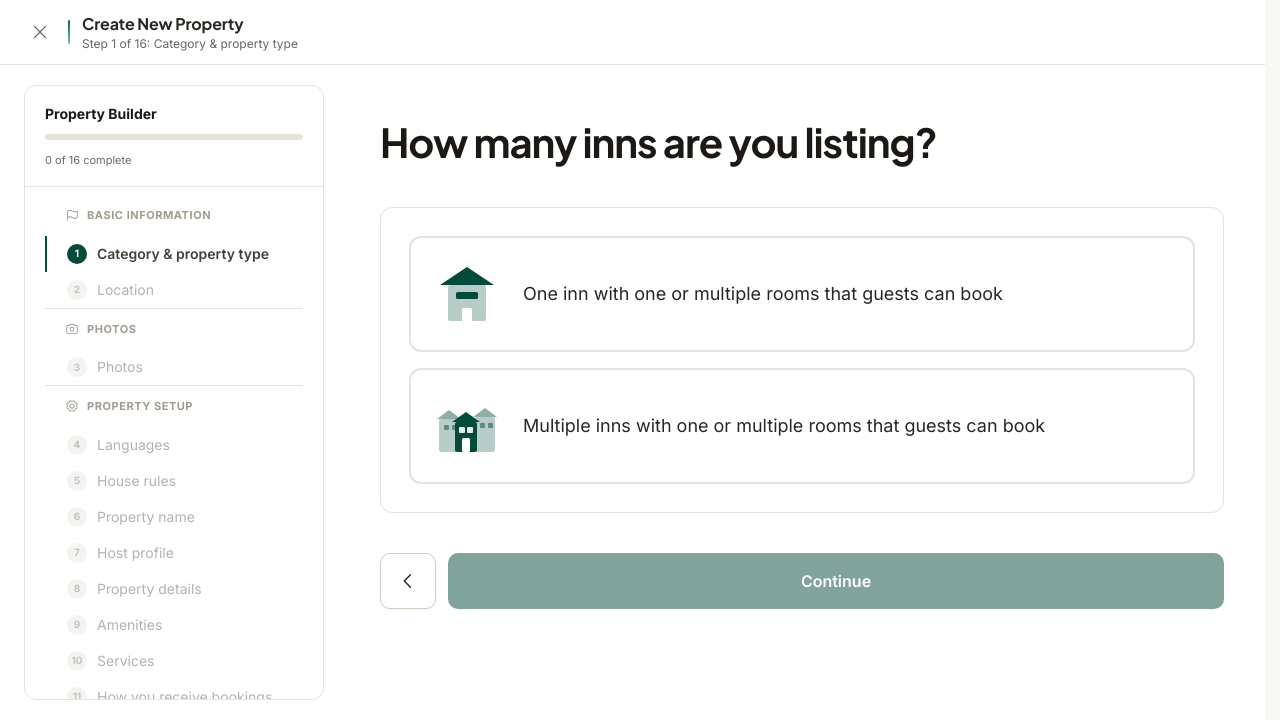
Test: PropertyHomeCountPage — how many are you listing › uses the room-based wording and Individual rooms for the hotel chain
Check: the heading "How many inns are you listing?" is shown, box x1=380 y1=116 x2=937 y2=167
Check: the text "Multiple inns with one or multiple rooms that guests can book" is shown, box x1=523 y1=415 x2=1045 y2=436
Click the text "One inn with one or multiple rooms that guests can book".
click(763, 294)  # box x1=523 y1=283 x2=1003 y2=304
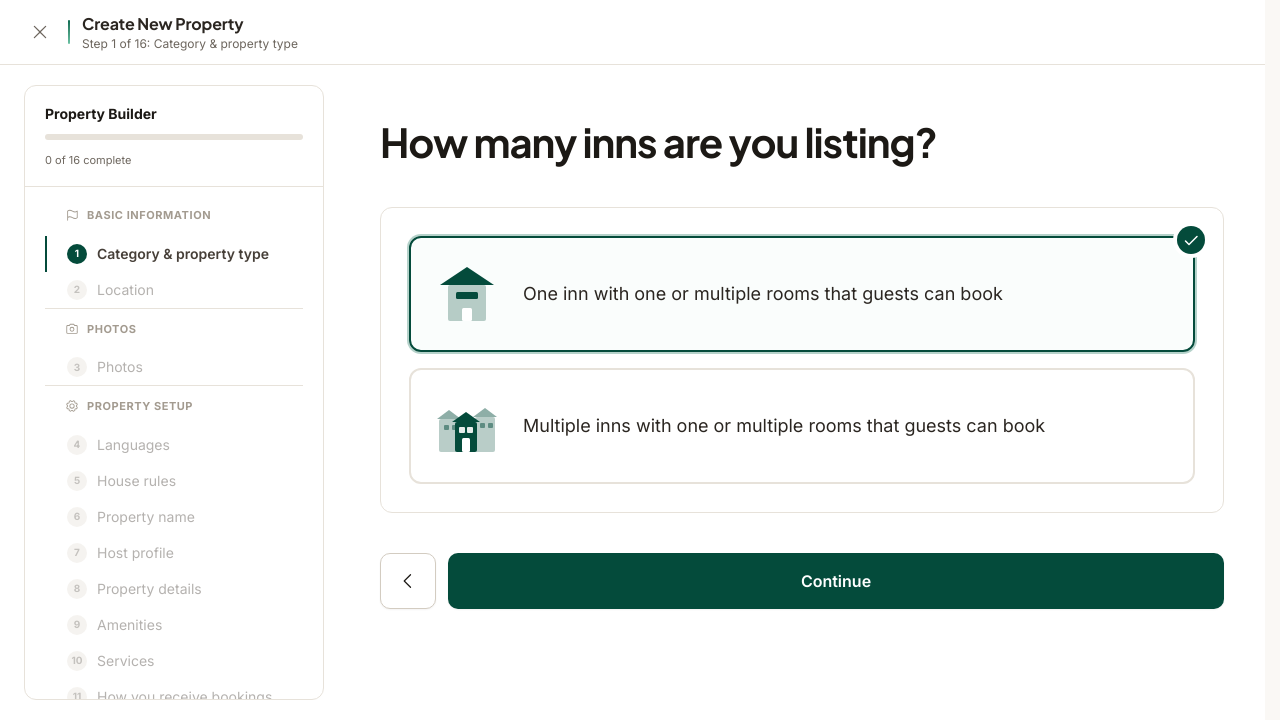
Click the button "Continue".
click(836, 581)  # box x1=448 y1=553 x2=1224 y2=609
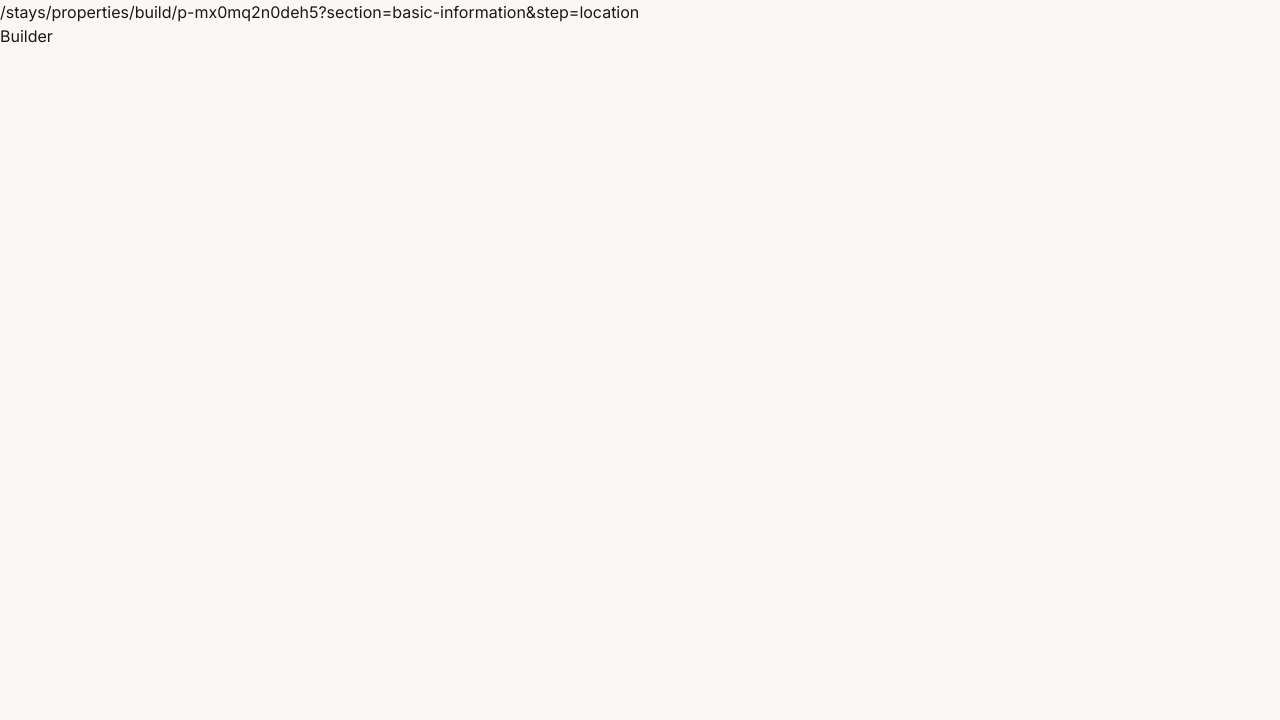
Check: the text with test id "location" shows "step=location", box x1=0 y1=2 x2=639 y2=22
